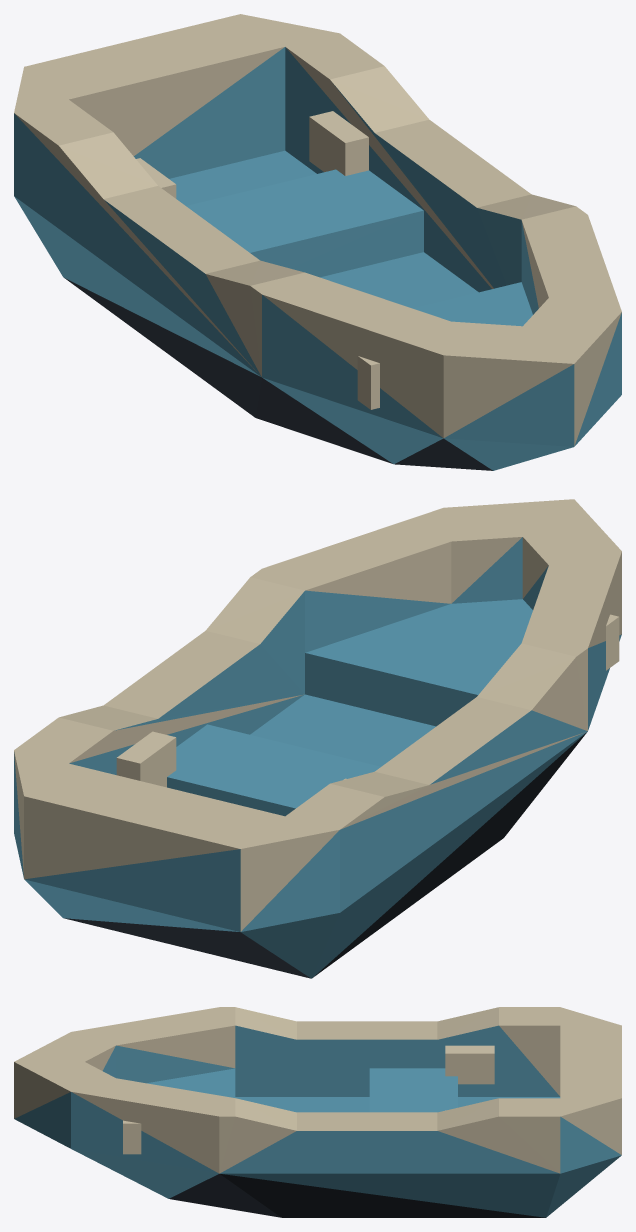
Rendered from moored-dory.glb.
The picture shows the model from 3 angles, top to bottom: view 1: azimuth 30°, elevation 25°; view 2: azimuth 150°, elevation 25°; view 3: azimuth 270°, elevation 25°; orthographic projection. The views are drawn at different scales.
Parts seen in each view (by area): view 1: moored-dory; view 2: moored-dory; view 3: moored-dory.
Part boxes in pixels (<box>): moored-dory: <box>14,14,621,470</box>; moored-dory: <box>14,499,621,978</box>; moored-dory: <box>14,1007,621,1217</box>.
Bounding box in the file's own units: 1.15 × 0.56 × 2.7.
